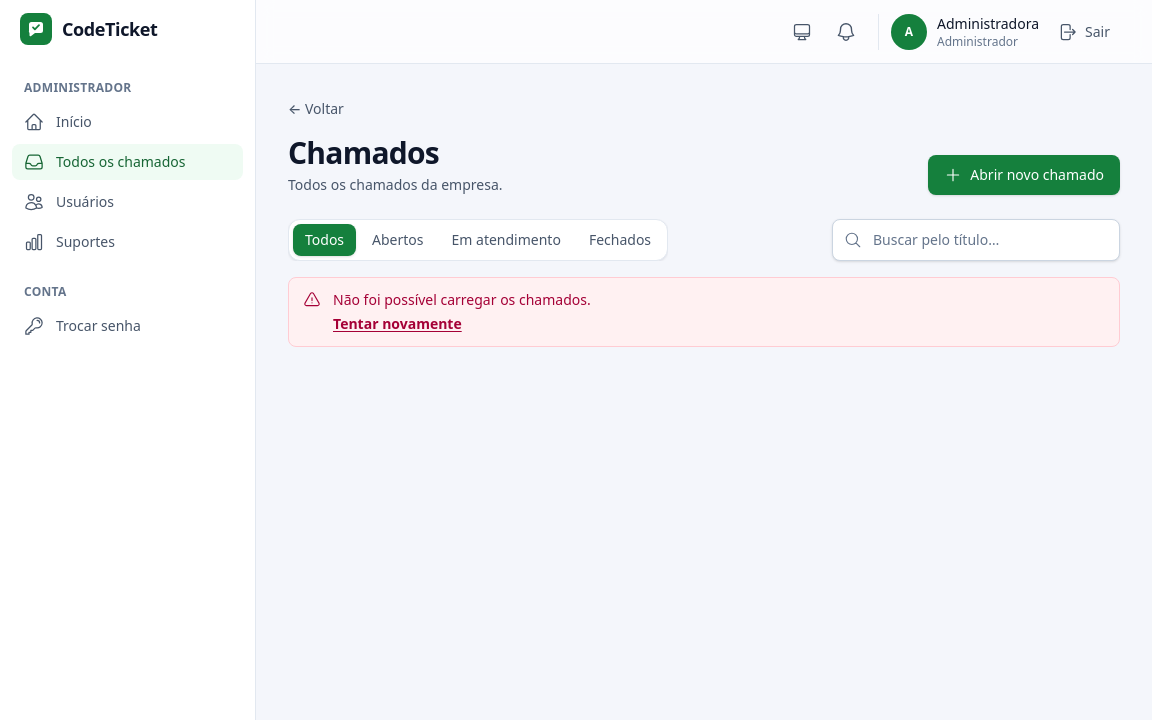
Test: TicketsView › explains when the list cannot be loaded and tries again on request
Check: the message shows "Não foi possível carregar os chamados", box [333,290,591,309]
Click the button "Tentar novamente": coordinates (397, 324) [333,314,462,334]
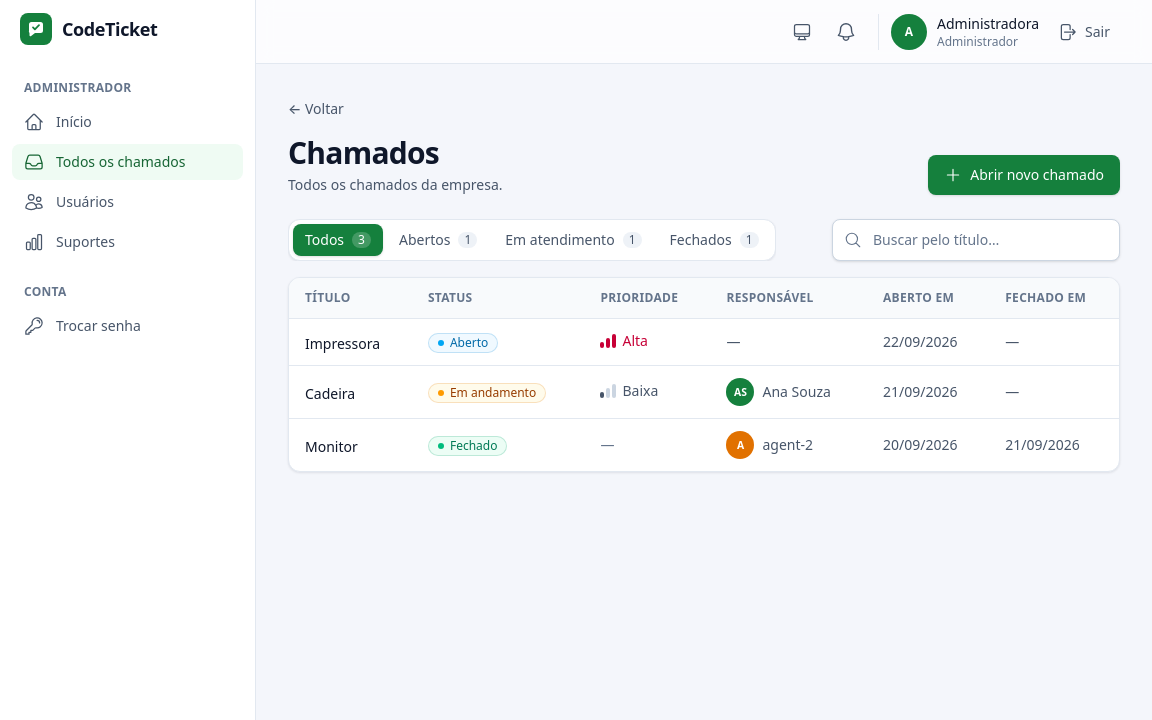
Check: the link "Impressora" is shown, box [305,334,380,353]
Check: the message "Não foi possível carregar os chamados. Tentar novamente" is gone
